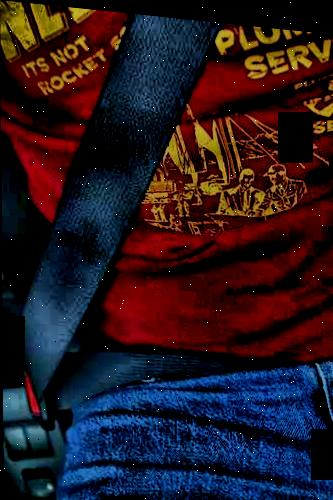seatbelt: (18, 18, 235, 438)
